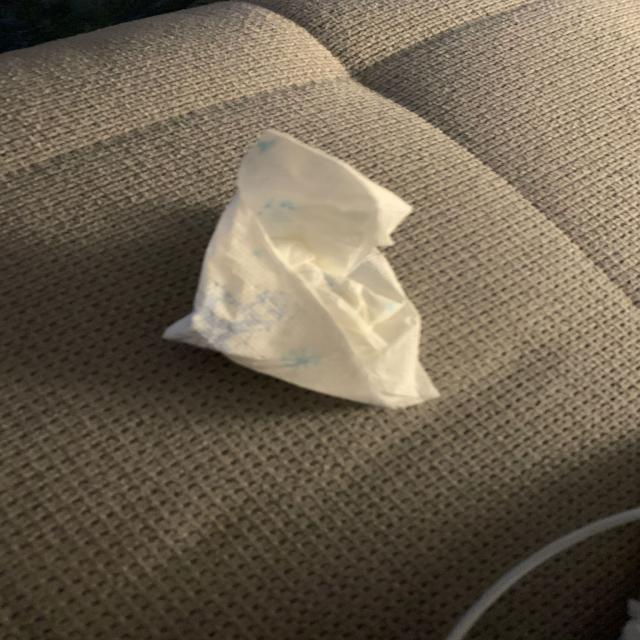kitchen paper: (156, 126, 446, 412)
